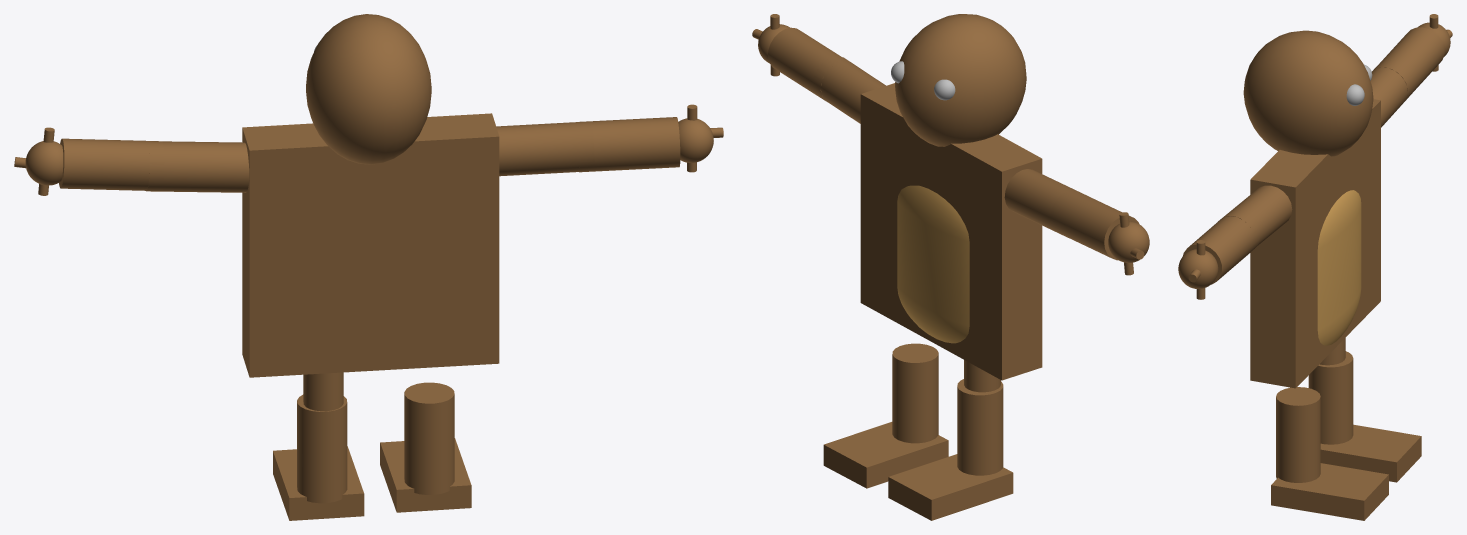
The model's file is Dart Monkey.fbx.
3 views of the same model, side by side, from view 1: azimuth 30°, elevation 25°; view 2: azimuth 150°, elevation 25°; view 3: azimuth 270°, elevation 25° (orthographic). The views are drawn at different scales.
Parts seen in each view (by area): view 1: Cube__55_, Sphere__3_, Cylinder__9_, Cylinder__18_, Cylinder__23_, Cylinder__11_, Cylinder__19_, Cylinder__24_, Cube__20_, Cube__54_, Cylinder__12_, Sphere__1_ (+1 smaller); view 2: Cube__55_, Sphere__3_, Capsule, Cube__54_, Cube__20_, Cylinder__9_, Cylinder__11_, Cylinder__19_, Cylinder__24_, Cylinder__18_, Cylinder__23_, Sphere__1_ (+2 smaller); view 3: Cube__55_, Sphere__3_, Capsule, Cube__20_, Cylinder__9_, Cube__54_, Cylinder__11_, Cylinder__19_, Cylinder__24_, Cylinder__23_, Cylinder__18_, Sphere (+2 smaller).
Part boxes in pixels (x1,y1,x2,y2): Cube__55_: [242, 113, 499, 377]; Sphere__3_: [306, 14, 431, 164]; Cylinder__9_: [404, 382, 454, 494]; Cylinder__18_: [146, 141, 249, 192]; Cylinder__23_: [496, 121, 594, 176]; Cylinder__11_: [297, 394, 347, 503]; Cylinder__19_: [59, 138, 164, 190]; Cylinder__24_: [577, 117, 680, 172]; Cube__20_: [380, 438, 471, 512]; Cube__54_: [273, 446, 364, 520]; Cylinder__12_: [303, 372, 343, 411]; Sphere__1_: [25, 141, 63, 185]; Cube__55_: [860, 83, 1042, 380]; Sphere__3_: [895, 14, 1026, 146]; Capsule: [897, 185, 969, 343]; Cube__54_: [888, 454, 1013, 520]; Cube__20_: [823, 422, 948, 488]; Cylinder__9_: [892, 343, 938, 443]; Cylinder__11_: [957, 379, 1003, 475]; Cylinder__19_: [1050, 190, 1139, 260]; Cylinder__24_: [768, 27, 843, 101]; Cylinder__18_: [1004, 169, 1086, 235]; Cylinder__23_: [814, 56, 885, 123]; Sphere__1_: [1108, 221, 1149, 262]; Cube__55_: [1250, 99, 1380, 388]; Sphere__3_: [1243, 30, 1373, 156]; Capsule: [1317, 190, 1361, 345]; Cube__20_: [1271, 463, 1388, 520]; Cylinder__9_: [1276, 387, 1320, 482]; Cube__54_: [1320, 424, 1421, 482]; Cylinder__11_: [1308, 351, 1353, 444]; Cylinder__19_: [1373, 27, 1444, 100]; Cylinder__24_: [1182, 211, 1259, 284]; Cylinder__23_: [1218, 185, 1292, 246]; Cylinder__18_: [1370, 62, 1411, 127]; Sphere: [1178, 249, 1218, 288].
Bounding box in the file's own units: 129817 × 107610 × 61523.
